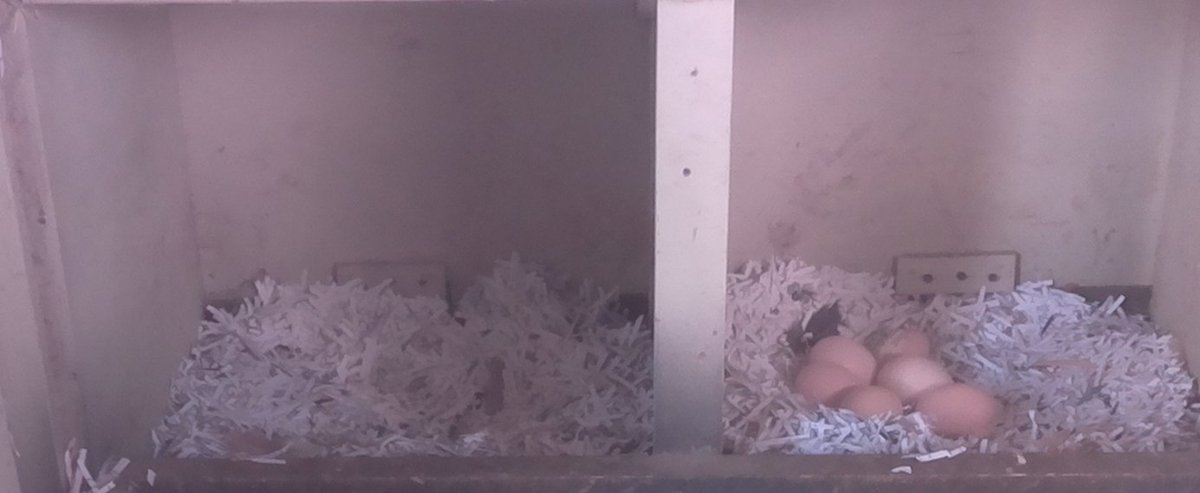egg: (910, 380, 1012, 443), (801, 333, 880, 387), (875, 353, 956, 400), (790, 357, 870, 404), (836, 382, 908, 428), (868, 323, 936, 360)
